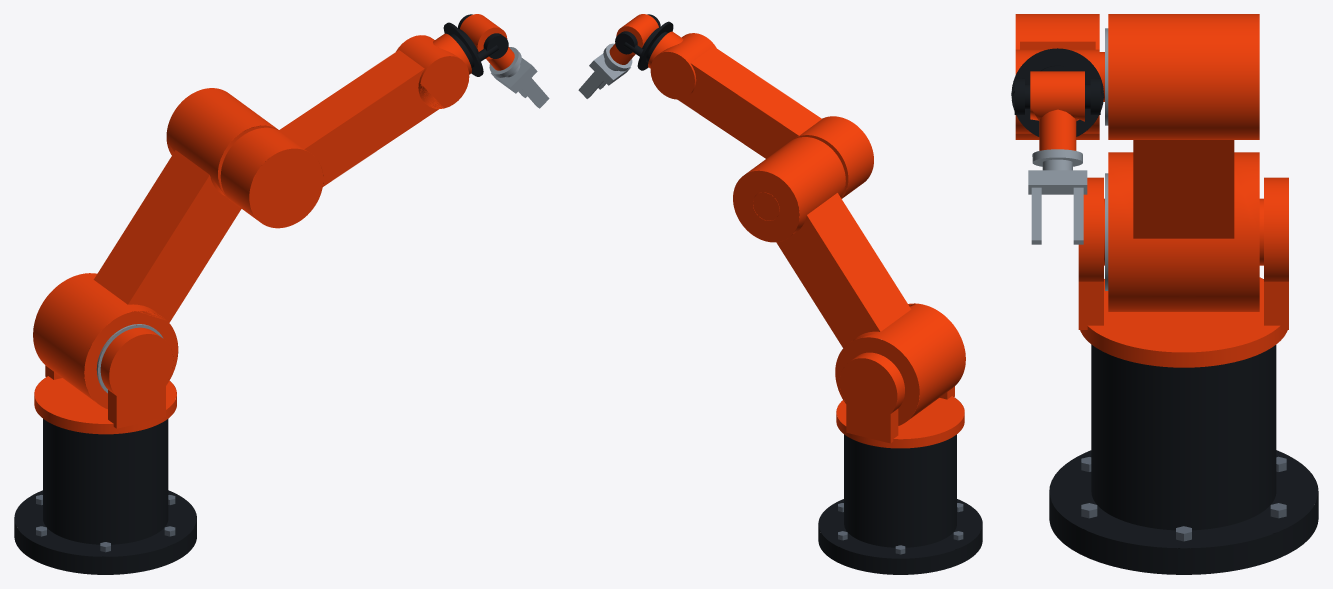
The model's file is robot-arm-6axis.glb.
3 renders of one model, left to right at view 1: azimuth 30°, elevation 25°; view 2: azimuth 150°, elevation 25°; view 3: azimuth 270°, elevation 25°, orthographic. The views are drawn at different scales.
Parts seen in each view (by area): view 1: Axis_2_upper_arm, Axis_3_forearm, Mounting_base, Axis_1_yaw_fork, Axis_6_tool_roll_and_gripper, Axis_4_wrist_roll, Axis_5_wrist_pitch; view 2: Axis_2_upper_arm, Mounting_base, Axis_3_forearm, Axis_1_yaw_fork, Axis_6_tool_roll_and_gripper, Axis_4_wrist_roll, Axis_5_wrist_pitch; view 3: Mounting_base, Axis_2_upper_arm, Axis_1_yaw_fork, Axis_3_forearm, Axis_5_wrist_pitch, Axis_6_tool_roll_and_gripper, Axis_4_wrist_roll, Shoulder_bearing_cover.
Part boxes in pixels (left/top/right/bottom): Axis_2_upper_arm: left=33, top=88, right=278, bottom=409; Axis_3_forearm: left=220, top=33, right=471, bottom=228; Mounting_base: left=14, top=419, right=196, bottom=574; Axis_1_yaw_fork: left=34, top=327, right=176, bottom=434; Axis_6_tool_roll_and_gripper: left=489, top=47, right=549, bottom=108; Axis_4_wrist_roll: left=443, top=14, right=508, bottom=76; Axis_5_wrist_pitch: left=460, top=14, right=514, bottom=70; Axis_2_upper_arm: left=733, top=137, right=965, bottom=425; Mounting_base: left=818, top=434, right=982, bottom=574; Axis_3_forearm: left=648, top=31, right=873, bottom=220; Axis_1_yaw_fork: left=836, top=352, right=964, bottom=448; Axis_6_tool_roll_and_gripper: left=578, top=43, right=632, bottom=98; Axis_4_wrist_roll: left=615, top=14, right=673, bottom=70; Axis_5_wrist_pitch: left=609, top=14, right=658, bottom=64; Mounting_base: left=1049, top=344, right=1318, bottom=574; Axis_2_upper_arm: left=1108, top=14, right=1259, bottom=311; Axis_1_yaw_fork: left=1078, top=177, right=1288, bottom=367; Axis_3_forearm: left=1015, top=14, right=1104, bottom=139; Axis_5_wrist_pitch: left=1030, top=71, right=1084, bottom=150; Axis_6_tool_roll_and_gripper: left=1028, top=149, right=1087, bottom=244; Axis_4_wrist_roll: left=1011, top=48, right=1103, bottom=136; Shoulder_bearing_cover: left=1105, top=173, right=1108, bottom=290.
Bounding box in the file's own units: 953 × 904 × 365.
